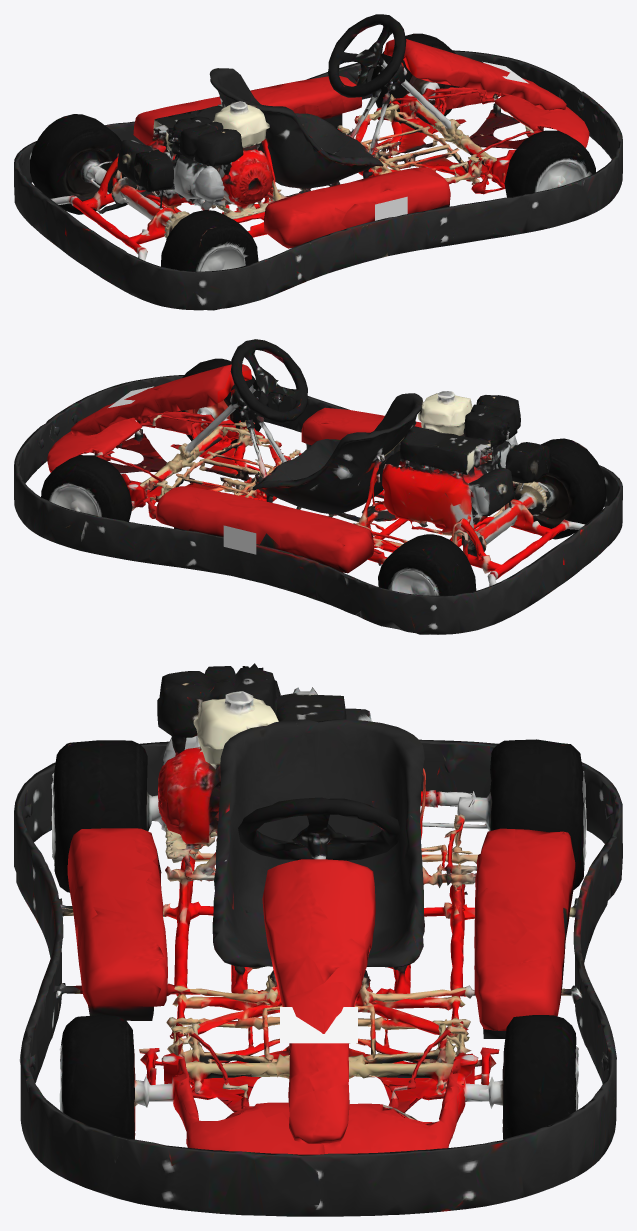
The model's file is kart.glb.
3 renders of one model, top to bottom at view 1: azimuth 30°, elevation 25°; view 2: azimuth 150°, elevation 25°; view 3: azimuth 270°, elevation 25°, orthographic. The views are drawn at different scales.
Parts seen in each view (by area): view 1: chassi, carenagem, motor, banco, roda_traseira_E, roda_traseira_D, roda_dianteira_D, volante, roda_dianteira_E, numero_D; view 2: chassi, carenagem, motor, banco, roda_traseira_E, roda_traseira_D, roda_dianteira_E, volante, roda_dianteira_D, numero_E; view 3: chassi, carenagem, banco, motor, roda_traseira_D, roda_traseira_E, roda_dianteira_E, roda_dianteira_D, volante, numero_frente.
Part boxes in pixels (bbox=[...]): chassi: bbox=[14, 43, 622, 310]; carenagem: bbox=[133, 39, 589, 248]; motor: bbox=[102, 82, 284, 235]; banco: bbox=[209, 68, 383, 193]; roda_traseira_E: bbox=[30, 114, 125, 214]; roda_traseira_D: bbox=[161, 210, 258, 310]; roda_dianteira_D: bbox=[504, 130, 595, 197]; volante: bbox=[328, 14, 406, 97]; roda_dianteira_E: bbox=[353, 33, 461, 123]; numero_D: bbox=[375, 196, 407, 220]; chassi: bbox=[14, 368, 622, 634]; carenagem: bbox=[47, 364, 421, 573]; motor: bbox=[367, 391, 551, 546]; banco: bbox=[252, 393, 425, 521]; roda_traseira_E: bbox=[378, 534, 476, 634]; roda_traseira_D: bbox=[513, 438, 606, 539]; roda_dianteira_E: bbox=[41, 455, 132, 521]; volante: bbox=[230, 339, 307, 423]; roda_dianteira_D: bbox=[182, 358, 279, 448]; numero_E: bbox=[223, 525, 256, 554]; chassi: bbox=[14, 739, 622, 1216]; carenagem: bbox=[67, 791, 575, 1154]; banco: bbox=[201, 719, 442, 981]; motor: bbox=[150, 663, 371, 886]; roda_traseira_D: bbox=[51, 740, 151, 892]; roda_traseira_E: bbox=[485, 739, 586, 889]; roda_dianteira_E: bbox=[506, 1015, 603, 1136]; roda_dianteira_D: bbox=[32, 1015, 130, 1138]; volante: bbox=[238, 797, 400, 860]; numero_frente: bbox=[280, 1007, 357, 1043].
Bounding box in the file's own units: 1.9 × 0.621 × 1.17.
Materials: 3 (2 with a texture image).
